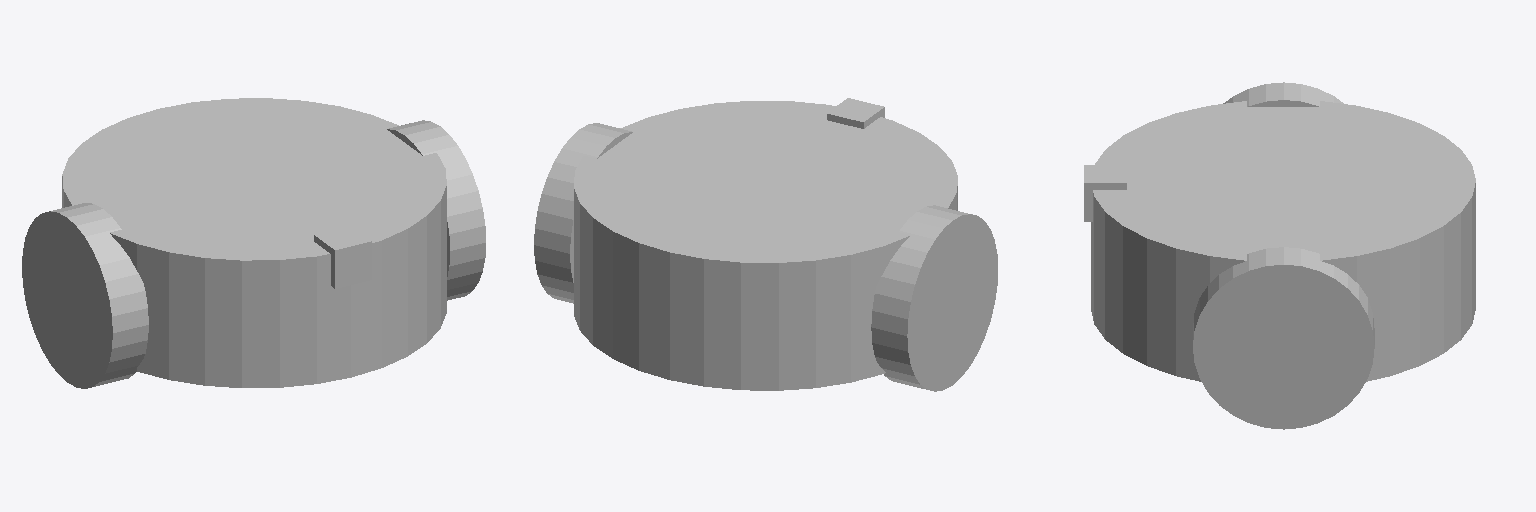
File: epuck2.obj
3 views of the same model, side by side, from view 1: azimuth 30°, elevation 25°; view 2: azimuth 150°, elevation 25°; view 3: azimuth 270°, elevation 25° (orthographic).
Parts seen in each view (by area): view 1: Cylinder, Cylinder.001, Cylinder.002, Cube_Cube.001; view 2: Cylinder, Cylinder.001, Cylinder.002, Cube_Cube.001; view 3: Cylinder, Cylinder.002, Cylinder.001, Cube_Cube.001.
Part boxes in pixels (bbox=[...]): Cylinder: bbox=[62, 98, 446, 387]; Cylinder.001: bbox=[22, 203, 148, 388]; Cylinder.002: bbox=[387, 120, 485, 300]; Cube_Cube.001: bbox=[314, 226, 371, 288]; Cylinder: bbox=[574, 101, 957, 390]; Cylinder.001: bbox=[871, 205, 997, 391]; Cylinder.002: bbox=[534, 123, 632, 303]; Cube_Cube.001: bbox=[827, 98, 884, 128]; Cylinder: bbox=[1091, 101, 1475, 381]; Cylinder.002: bbox=[1193, 247, 1374, 429]; Cylinder.001: bbox=[1223, 82, 1343, 106]; Cube_Cube.001: bbox=[1084, 165, 1126, 221].
Bounding box in the file's own units: 4.74 × 2 × 4.31.